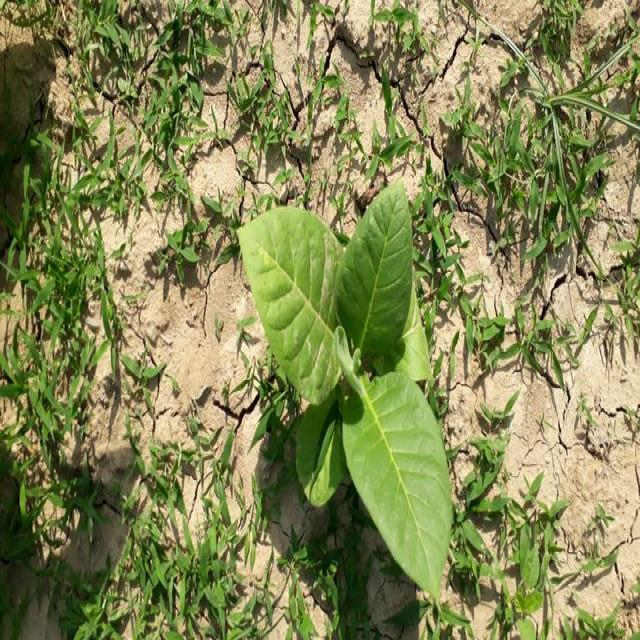crop: (236, 182, 444, 585)
